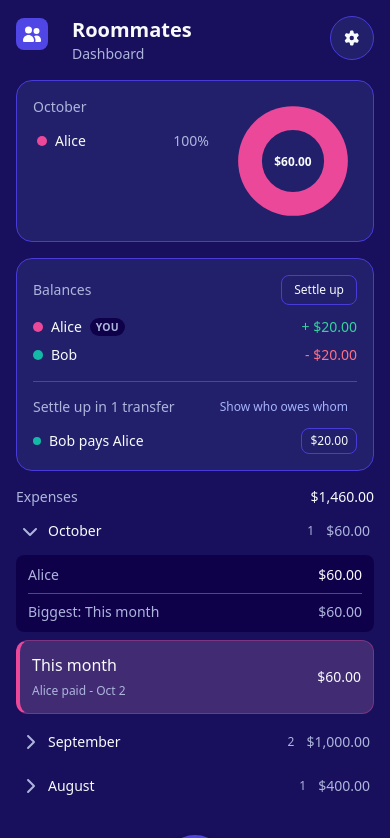
Test: DashboardView on the main group › how a finished month went › says who paid for the month
This screenshot has width=390, height=838.
Step 1. Click the button with test id "month-toggle" showing "September 2" → (84, 742), box [16, 726, 298, 758]
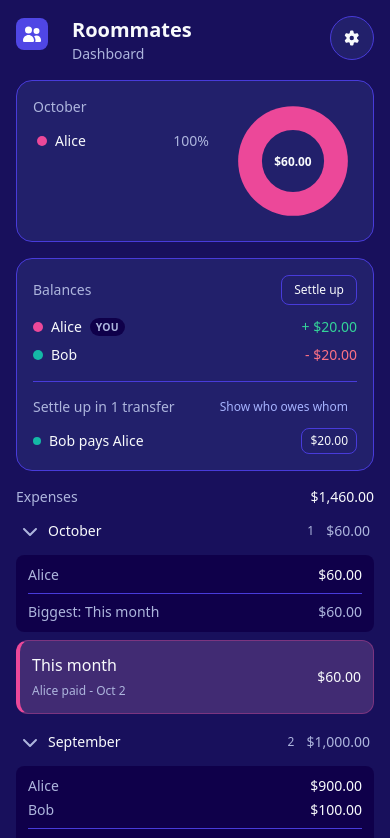
expect the list item with test id "recap-member" shows "Alice": met, box [28, 776, 59, 795]
expect the list item with test id "recap-member" shows "900.00": met, box [310, 776, 362, 795]
expect the list item with test id "recap-member" shows "Bob": met, box [28, 800, 54, 819]
